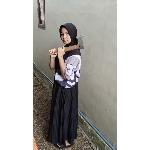Kapak: (47, 34, 87, 58)
